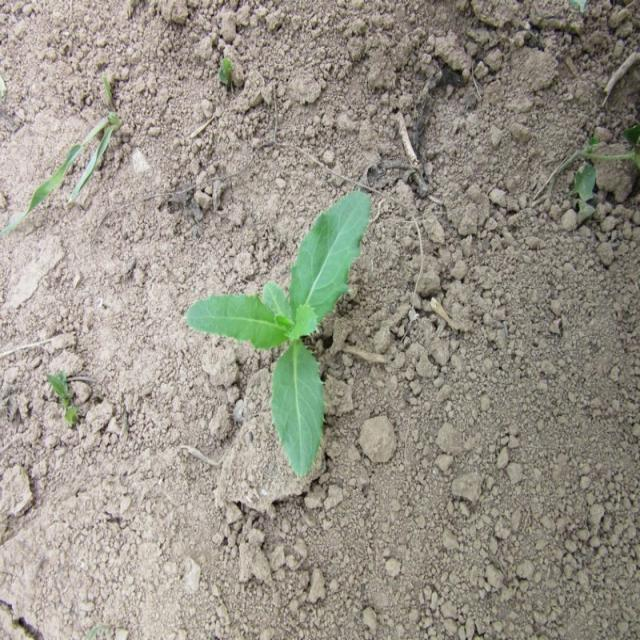cs: (185, 185, 378, 479)
